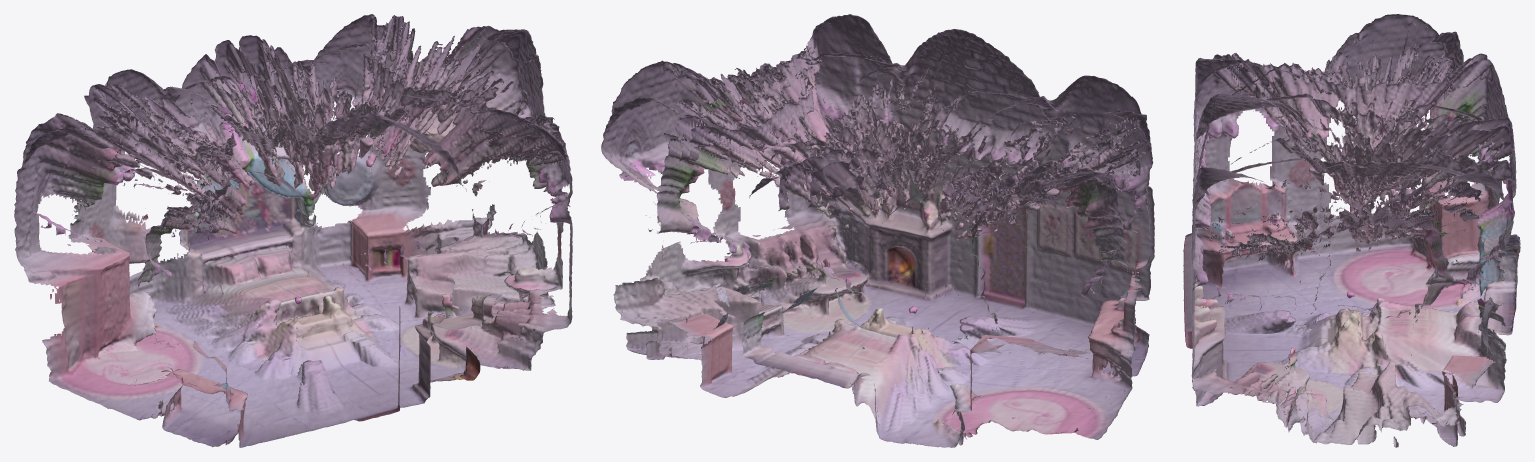
Rendered from ac-blossom-gothic-chamber_collider.glb.
The picture shows the model from 3 angles, left to right: view 1: azimuth 30°, elevation 25°; view 2: azimuth 150°, elevation 25°; view 3: azimuth 270°, elevation 25°; orthographic projection. The views are drawn at different scales.
Visible parts, largest first — view 1: world; view 2: world; view 3: world.
Boxes of the visible parts, <box> form: world: <box>14,14,572,447</box>; world: <box>601,14,1154,447</box>; world: <box>1183,14,1520,447</box>.
Size of the model in its own units: 11.76 by 6.31 by 7.48.
